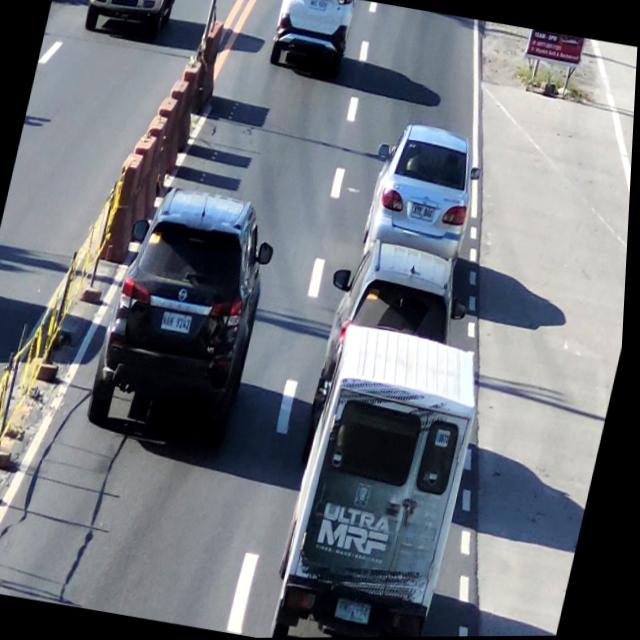Car: (266, 325, 494, 638), (91, 177, 282, 443), (312, 230, 473, 416), (356, 114, 489, 275), (267, 0, 353, 72)
License-Plate: (338, 592, 380, 630), (160, 307, 200, 339), (409, 198, 440, 226), (304, 0, 330, 13)
